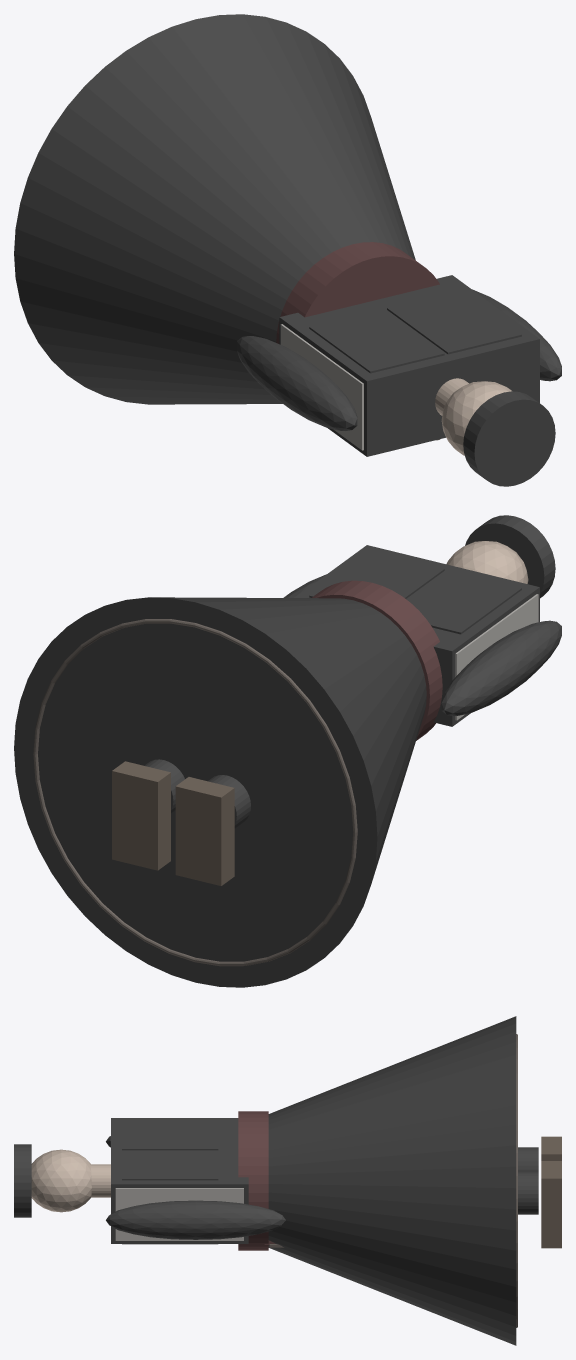
Rendered from MASTER_004_STAGE3_DETAIL.glb.
The picture shows the model from 3 angles, top to bottom: view 1: azimuth 30°, elevation 25°; view 2: azimuth 150°, elevation 25°; view 3: azimuth 270°, elevation 25°; orthographic projection. The views are drawn at different scales.
Parts seen in each view (by area): view 1: slot_lower_main__fund_i_gjatë, slot_upper_inner__këmishë, slot_waist__brez, slot_headwear__mbulesë_koke, slot_upper_inner_sleeve_L, slot_upper_outer__jelek/xhamadan_L, slot_upper_outer__jelek/xhamadan_R, mannequin_torso, mannequin_head, slot_upper_inner_sleeve_R; view 2: slot_lower_main__fund_i_gjatë, slot_footwear__opinga_L, slot_footwear__opinga_R, slot_upper_inner_sleeve_L, detail_skirt_hem, slot_waist__brez, slot_upper_inner__këmishë, slot_upper_outer__jelek/xhamadan_L, slot_headwear__mbulesë_koke, slot_upper_outer__jelek/xhamadan_R, mannequin_head, mannequin_torso (+1 smaller); view 3: slot_lower_main__fund_i_gjatë, slot_upper_inner_sleeve_R, slot_upper_inner__këmishë, mannequin_head, slot_waist__brez, slot_upper_outer__jelek/xhamadan_R, slot_upper_outer__jelek/xhamadan_L, mannequin_torso, slot_footwear__opinga_R, slot_headwear__mbulesë_koke, slot_legwear__çorape_R, mannequin_neck (+3 smaller).
Boxes of the visible parts, left/top/right/bottom form: slot_lower_main__fund_i_gjatë: left=14, top=14, right=415, bottom=404; slot_upper_inner__këmishë: left=279, top=275, right=539, bottom=456; slot_waist__brez: left=276, top=242, right=439, bottom=343; slot_headwear__mbulesë_koke: left=463, top=391, right=555, bottom=486; slot_upper_inner_sleeve_L: left=237, top=336, right=357, bottom=430; slot_upper_outer__jelek/xhamadan_L: left=309, top=309, right=444, bottom=373; slot_upper_outer__jelek/xhamadan_R: left=387, top=290, right=521, bottom=354; mannequin_torso: left=280, top=324, right=363, bottom=450; mannequin_head: left=441, top=381, right=511, bottom=455; slot_upper_inner_sleeve_R: left=472, top=289, right=561, bottom=381; slot_lower_main__fund_i_gjatë: left=14, top=597, right=426, bottom=987; slot_footwear__opinga_L: left=175, top=777, right=234, bottom=885; slot_footwear__opinga_R: left=112, top=761, right=170, bottom=870; slot_upper_inner_sleeve_L: left=441, top=620, right=561, bottom=715; detail_skirt_hem: left=33, top=619, right=357, bottom=966; slot_waist__brez: left=312, top=580, right=442, bottom=740; slot_upper_inner__këmishë: left=295, top=545, right=539, bottom=726; slot_upper_outer__jelek/xhamadan_L: left=407, top=570, right=521, bottom=634; slot_headwear__mbulesë_koke: left=465, top=515, right=555, bottom=598; slot_upper_outer__jelek/xhamadan_R: left=309, top=551, right=444, bottom=598; mannequin_head: left=446, top=541, right=528, bottom=583; mannequin_torso: left=455, top=594, right=538, bottom=720; slot_lower_main__fund_i_gjatë: left=268, top=1016, right=516, bottom=1345; slot_upper_inner_sleeve_R: left=106, top=1200, right=285, bottom=1239; slot_upper_inner__këmishë: left=111, top=1118, right=248, bottom=1243; mannequin_head: left=31, top=1149, right=91, bottom=1212; slot_waist__brez: left=238, top=1111, right=268, bottom=1250; slot_upper_outer__jelek/xhamadan_R: left=122, top=1150, right=218, bottom=1244; slot_upper_outer__jelek/xhamadan_L: left=122, top=1120, right=218, bottom=1150; mannequin_torso: left=115, top=1188, right=243, bottom=1240; slot_footwear__opinga_R: left=541, top=1161, right=561, bottom=1248; slot_headwear__mbulesë_koke: left=14, top=1144, right=31, bottom=1217; slot_legwear__çorape_R: left=518, top=1171, right=538, bottom=1214; mannequin_neck: left=91, top=1164, right=110, bottom=1197.
Bounding box in the file's own units: 1.03 × 1.03 × 1.71.
